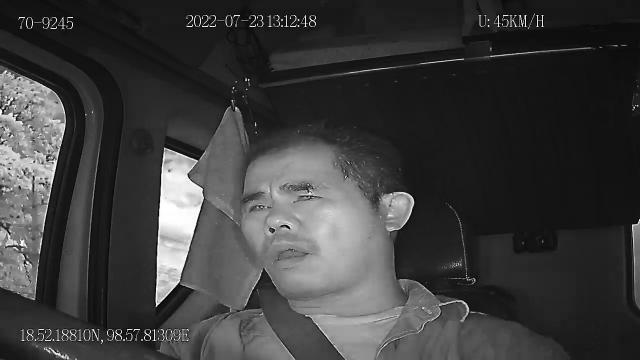SafeDriving: (285, 179, 328, 209), (243, 194, 277, 218)
Seatbelt: (258, 284, 348, 360)
